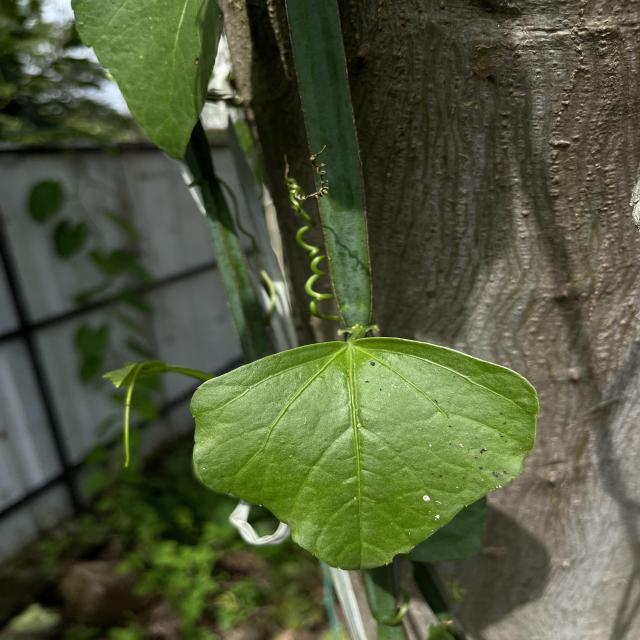Cissus quadrangularis: (187, 332, 543, 572)
